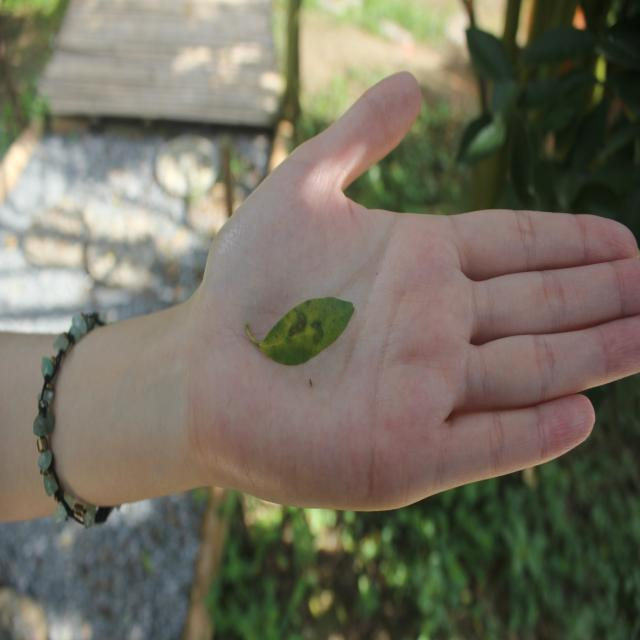canker: (280, 307, 332, 354)
